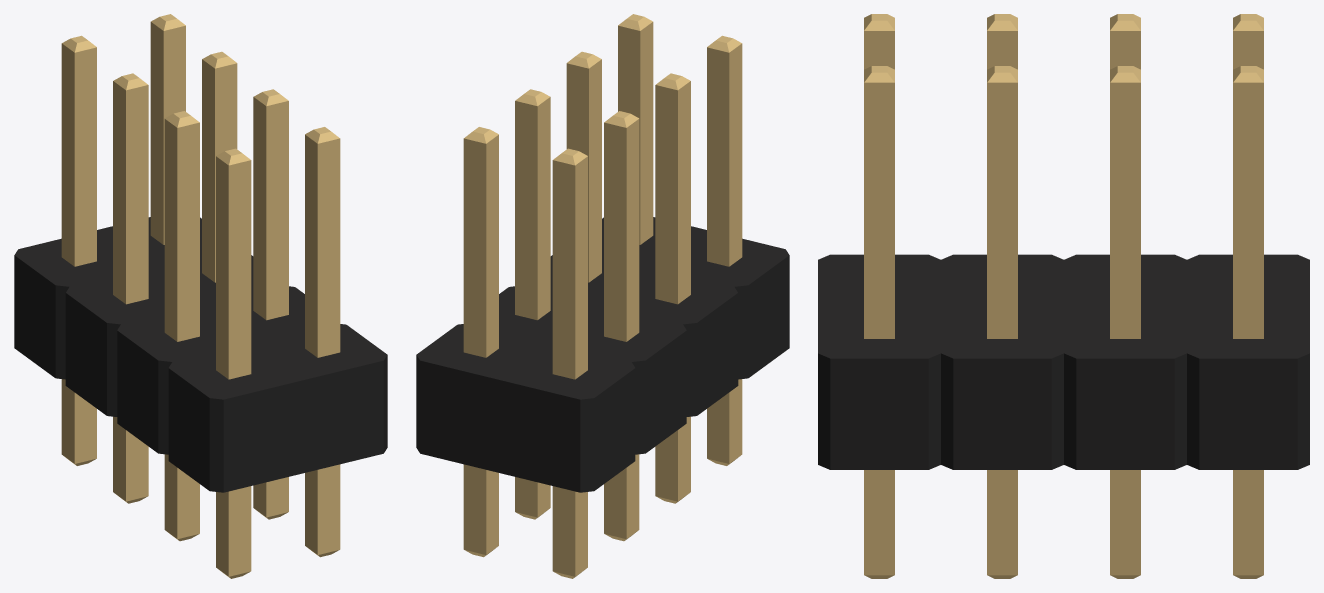
Rendered from PinHeader_2x04_P2.54mm_Vertical.glb.
The picture shows the model from 3 angles, left to right: view 1: azimuth 30°, elevation 25°; view 2: azimuth 150°, elevation 25°; view 3: azimuth 270°, elevation 25°; orthographic projection. The views are drawn at different scales.
Parts seen in each view (by area): view 1: =>[0:1:1:3]; view 2: =>[0:1:1:3]; view 3: =>[0:1:1:3].
Boxes of the visible parts, left/top/right/bottom form: =>[0:1:1:3]: left=14, top=14, right=387, bottom=578; =>[0:1:1:3]: left=416, top=14, right=789, bottom=578; =>[0:1:1:3]: left=818, top=14, right=1309, bottom=578.
Size of the model in its own units: 0.00508 by 0.0115 by 0.0102.
